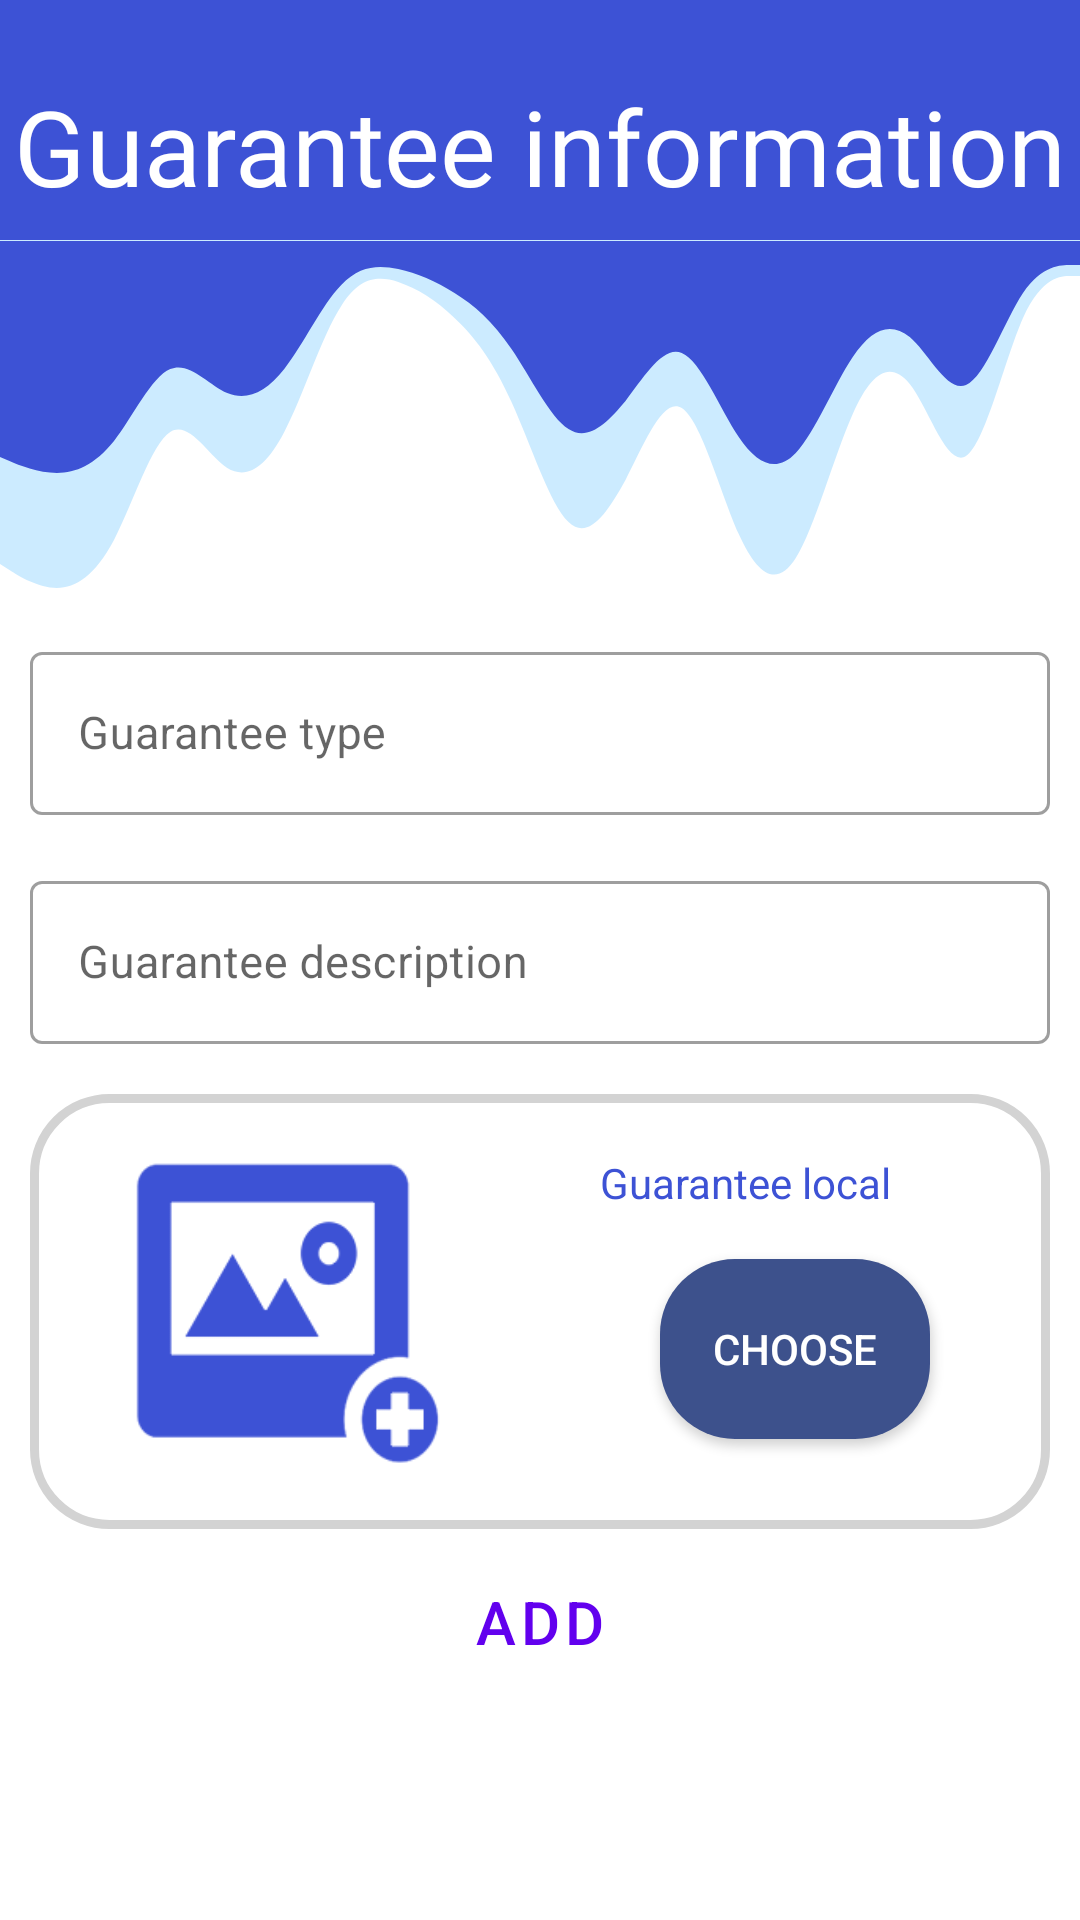

Locate icon controls on the screen. Image size 1080x1920, boxes as [x1=x1, y1=y1, x2=x2, y2=y2].
addpic: [x1=136, y1=1163, x2=439, y2=1463]
